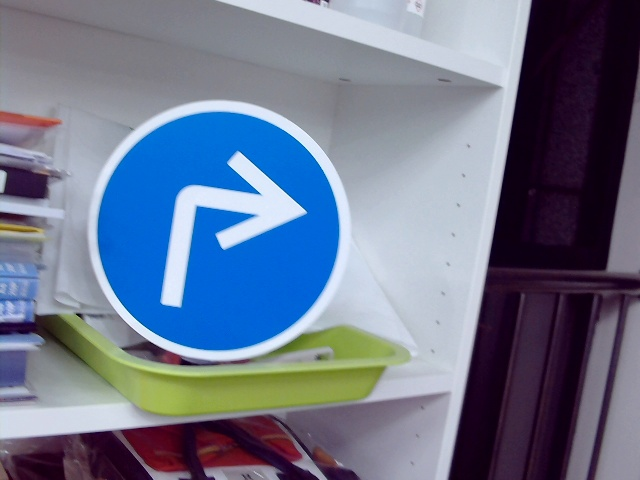turn_right: (142, 150, 301, 302)
